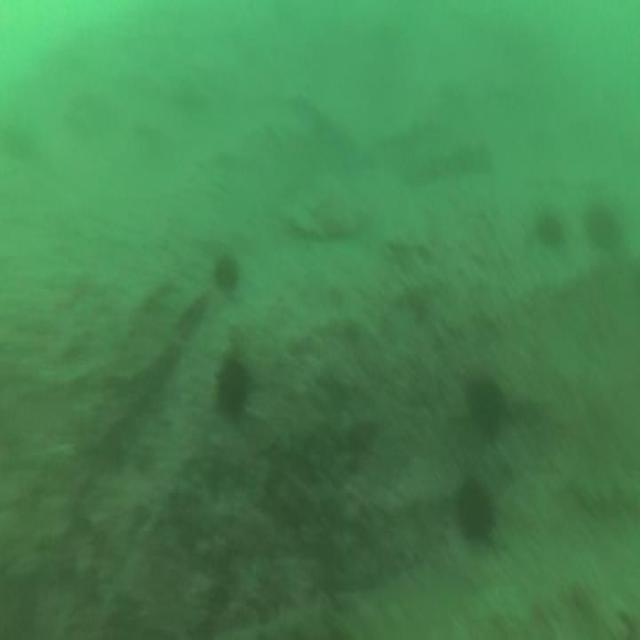echinus: (466, 378, 505, 434), (584, 199, 622, 253), (215, 359, 245, 411), (538, 212, 564, 248), (215, 253, 236, 291)
starfish: (458, 476, 492, 542)
